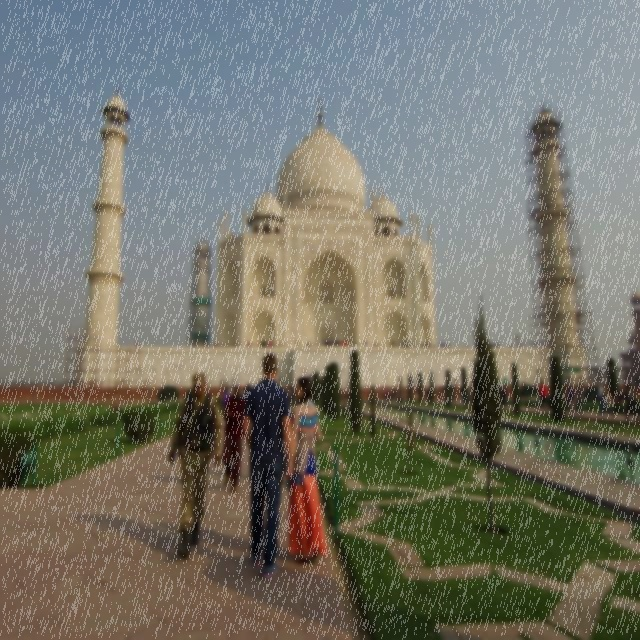pessoa: (240, 350, 294, 582), (167, 370, 226, 562), (285, 375, 328, 565), (62, 503, 176, 561), (220, 380, 248, 496), (622, 382, 640, 422), (596, 381, 612, 417), (611, 380, 625, 418), (20, 378, 64, 387), (538, 380, 549, 412), (598, 384, 607, 418), (566, 384, 576, 414), (576, 382, 585, 415), (244, 382, 252, 418), (320, 338, 350, 347), (564, 382, 572, 414), (382, 384, 396, 402), (222, 388, 230, 414), (500, 384, 508, 410), (450, 384, 457, 404), (286, 385, 292, 408), (289, 384, 295, 407), (436, 385, 443, 402), (204, 340, 218, 348), (459, 384, 464, 406), (468, 384, 473, 406), (425, 386, 431, 404), (399, 341, 413, 348), (70, 375, 76, 389), (242, 386, 248, 400), (410, 374, 415, 390), (231, 376, 237, 389), (227, 385, 232, 399), (344, 385, 348, 402), (453, 376, 458, 389), (396, 396, 404, 404), (260, 340, 268, 348), (80, 378, 84, 392), (135, 339, 139, 352), (460, 343, 470, 348), (92, 378, 96, 390), (120, 376, 124, 388), (146, 378, 150, 390), (220, 378, 224, 390), (278, 376, 282, 388), (363, 338, 368, 347), (224, 378, 228, 389), (142, 380, 146, 390), (424, 340, 428, 350), (539, 376, 543, 386), (88, 378, 91, 390), (99, 378, 103, 387), (268, 341, 272, 350), (428, 340, 432, 349), (496, 342, 500, 351), (439, 341, 444, 348), (432, 342, 436, 350), (258, 376, 262, 384), (249, 340, 252, 350), (443, 342, 448, 348), (372, 342, 376, 349), (492, 342, 496, 349), (246, 340, 249, 349), (421, 341, 424, 350), (195, 342, 199, 348), (352, 342, 358, 346), (448, 342, 451, 349), (376, 342, 378, 348), (510, 342, 512, 348), (278, 340, 282, 343), (272, 341, 274, 347), (490, 342, 492, 348), (278, 340, 278, 341)
